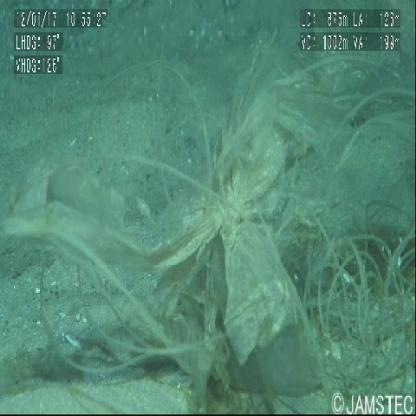Rác: (12, 110, 415, 366)
